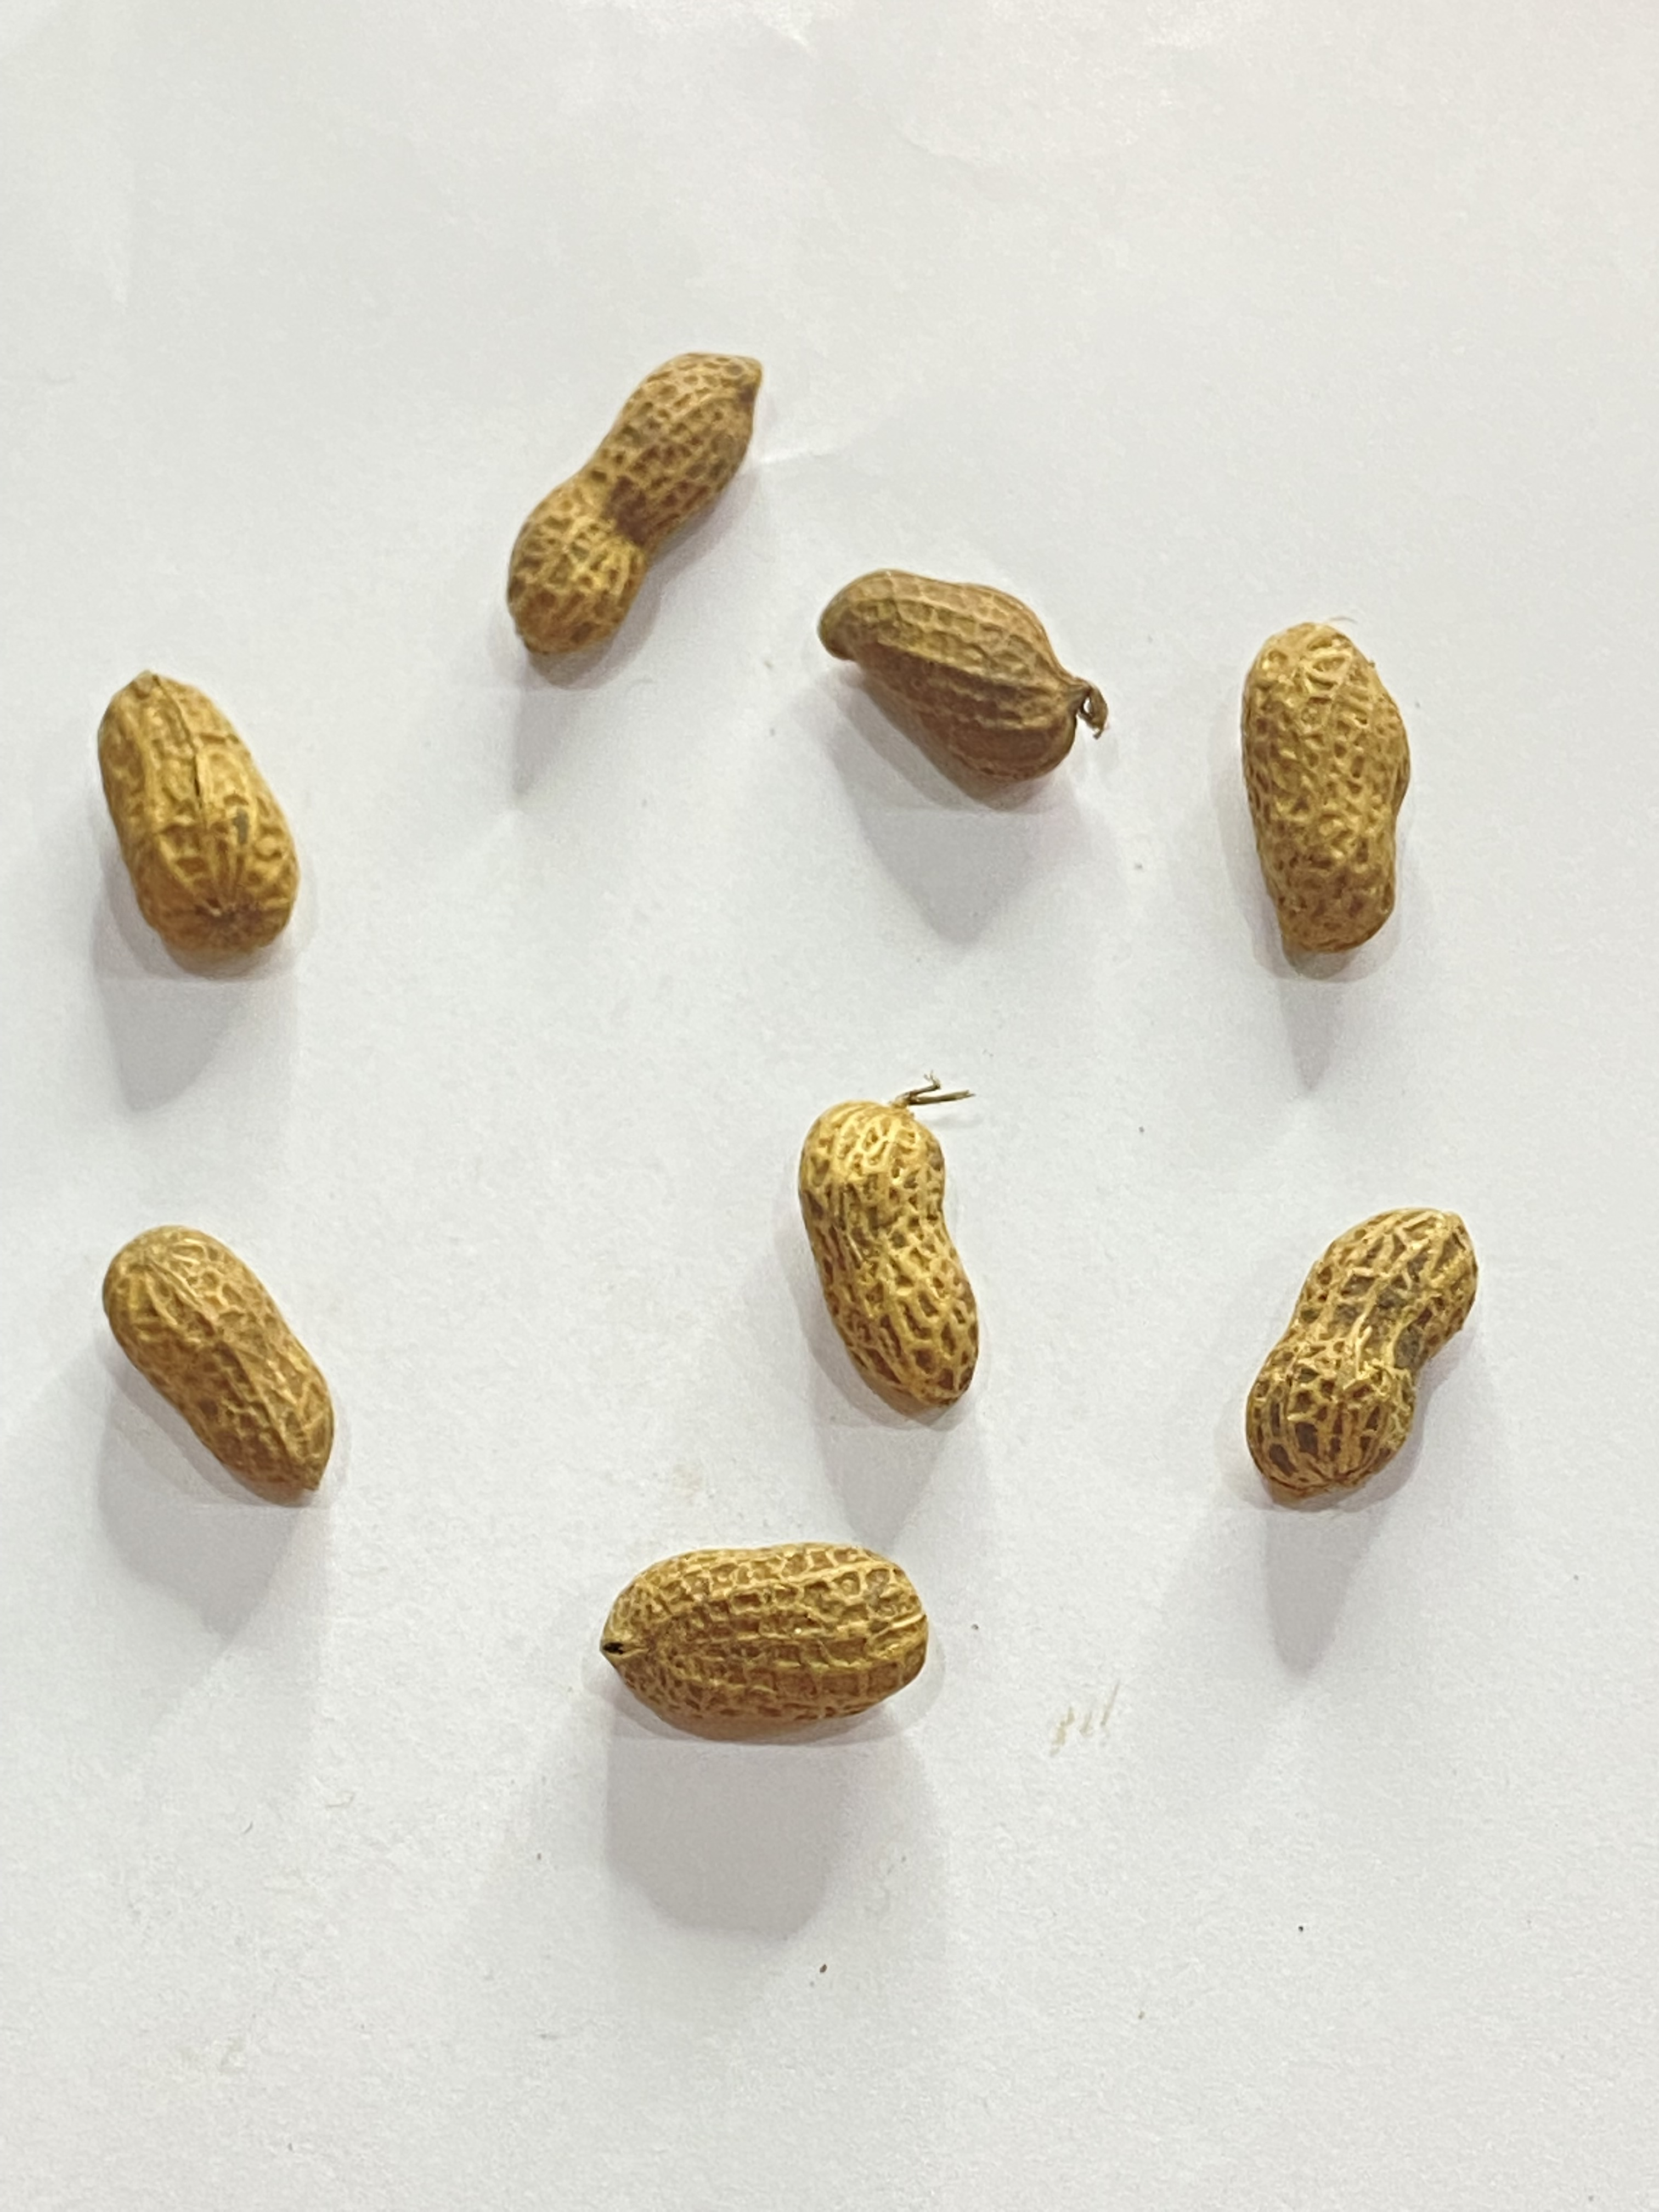kacang1: (807, 557, 1112, 791), (572, 1543, 953, 1730)
kacang2: (505, 341, 786, 664), (1246, 1188, 1476, 1500), (98, 1230, 350, 1510), (769, 1103, 995, 1411), (80, 671, 314, 961), (1239, 610, 1413, 965)
